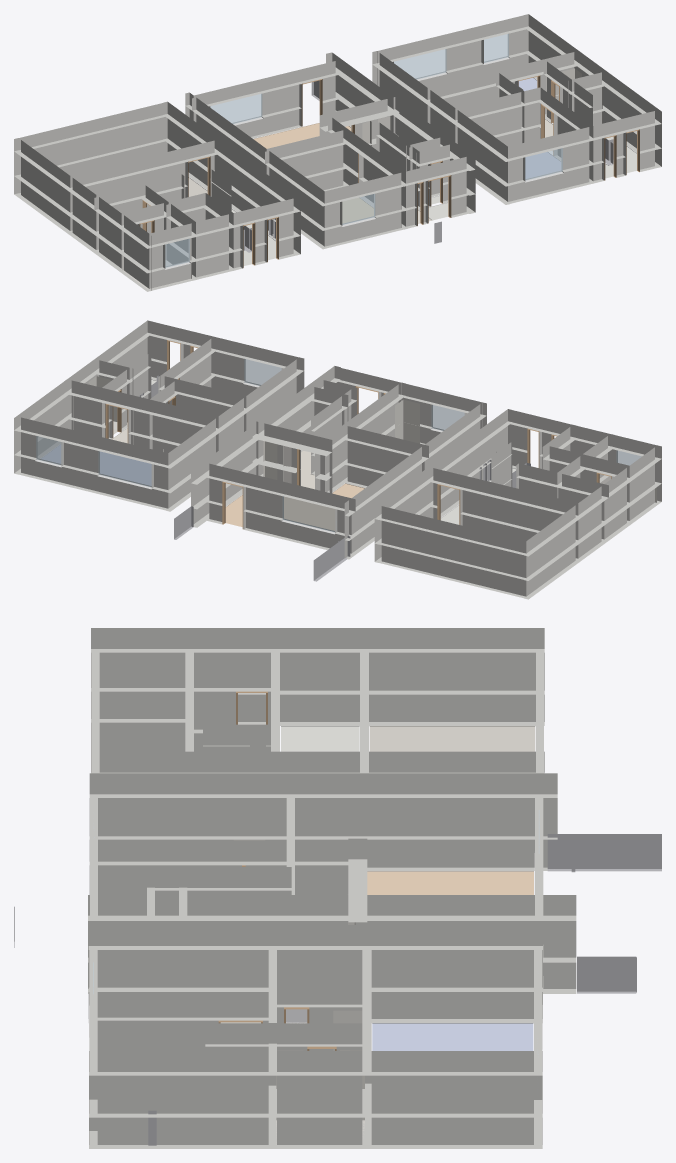
The picture shows the model from 3 angles, top to bottom: view 1: azimuth 30°, elevation 25°; view 2: azimuth 150°, elevation 25°; view 3: azimuth 270°, elevation 25°; orthographic projection. The views are drawn at different scales.
Visible parts, largest first — view 1: walls, window_4, window_2, window_0, railings, floor_1_Living_Room, window_5, floor_12_Bed_Room, floor_10_Kitchen, window_11, window_3, furniture_10_sauna_bench; view 2: walls, floor_1_Living_Room, railings, floor_2_Bed_Room, window_4, window_2, furniture_5_closet, window_0, window_3, window_5, furniture_3_closet, floor_8_Entry; view 3: walls, railings, floor_2_Bed_Room, floor_0_Storage, floor_1_Living_Room, floor_7_Undefined.
Part boxes in pixels (left/top/right/bottom): walls: left=14, top=14, right=661, bottom=291; window_4: left=394, top=49, right=446, bottom=79; window_2: left=210, top=93, right=262, bottom=123; window_0: left=525, top=148, right=562, bottom=180; railings: left=243, top=80, right=613, bottom=252; floor_1_Living_Room: left=253, top=123, right=350, bottom=148; window_5: left=342, top=194, right=375, bottom=224; floor_12_Bed_Room: left=525, top=152, right=560, bottom=178; floor_10_Kitchen: left=342, top=198, right=373, bottom=223; window_11: left=165, top=238, right=189, bottom=267; window_3: left=484, top=33, right=508, bottom=62; furniture_10_sauna_bench: left=122, top=244, right=191, bottom=289; walls: left=14, top=320, right=661, bottom=599; floor_1_Living_Room: left=225, top=483, right=364, bottom=530; railings: left=139, top=375, right=530, bottom=581; floor_2_Bed_Room: left=41, top=444, right=151, bottom=485; window_4: left=98, top=451, right=151, bottom=487; window_2: left=282, top=496, right=334, bottom=532; furniture_5_closet: left=395, top=399, right=419, bottom=443; window_0: left=244, top=359, right=281, bottom=385; window_3: left=36, top=436, right=61, bottom=465; window_5: left=431, top=405, right=464, bottom=430; furniture_3_closet: left=263, top=441, right=277, bottom=479; floor_8_Entry: left=301, top=450, right=314, bottom=489; walls: left=88, top=628, right=576, bottom=1148; railings: left=14, top=834, right=661, bottom=1145; floor_2_Bed_Room: left=372, top=1023, right=533, bottom=1050; floor_0_Storage: left=369, top=726, right=535, bottom=751; floor_1_Living_Room: left=367, top=871, right=533, bottom=894; floor_7_Undefined: left=281, top=726, right=359, bottom=751.
Size of the model in its own units: 26.28 by 2.72 by 16.86.
